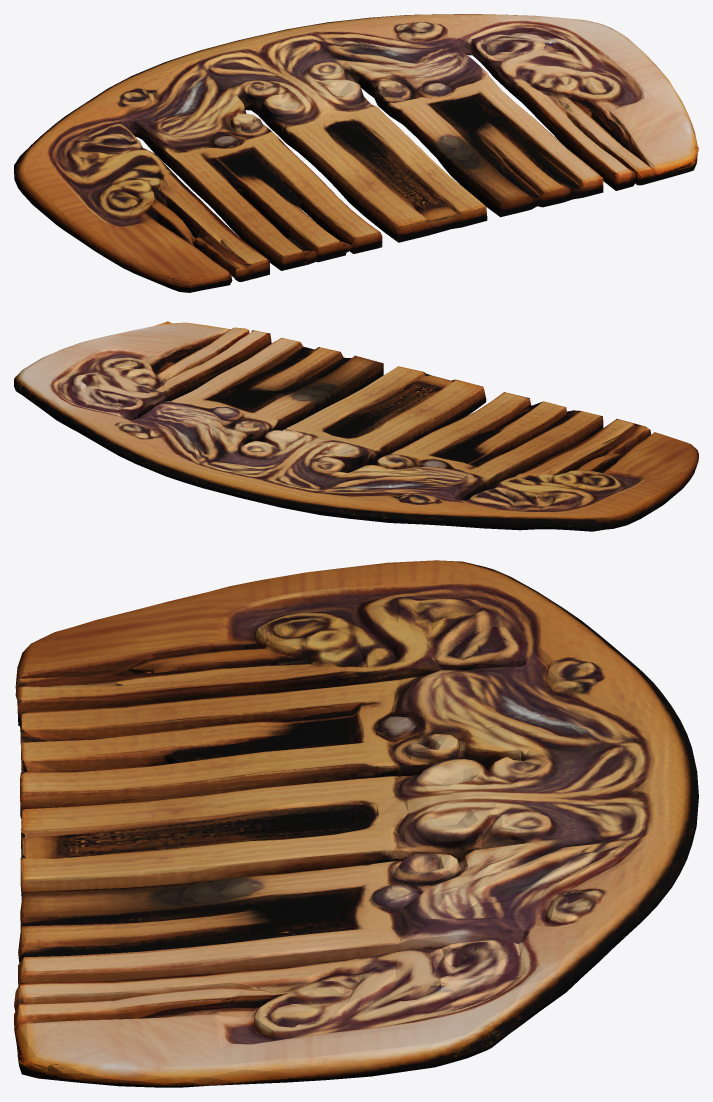
File: wooden-beard-comb-3d.jpeg.glb
3 views of the same model, one above another, from view 1: azimuth 30°, elevation 25°; view 2: azimuth 150°, elevation 25°; view 3: azimuth 270°, elevation 25° (orthographic). The views are drawn at different scales.
Parts seen in each view (by area): view 1: world; view 2: world; view 3: world.
Boxes of the visible parts, left/top/right/bottom form: world: left=14, top=14, right=698, bottom=292; world: left=14, top=321, right=698, bottom=531; world: left=14, top=560, right=698, bottom=1087.
Size of the model in its own units: 1 by 0.0802 by 0.5795.
Materials: 1 (1 with a texture image).
